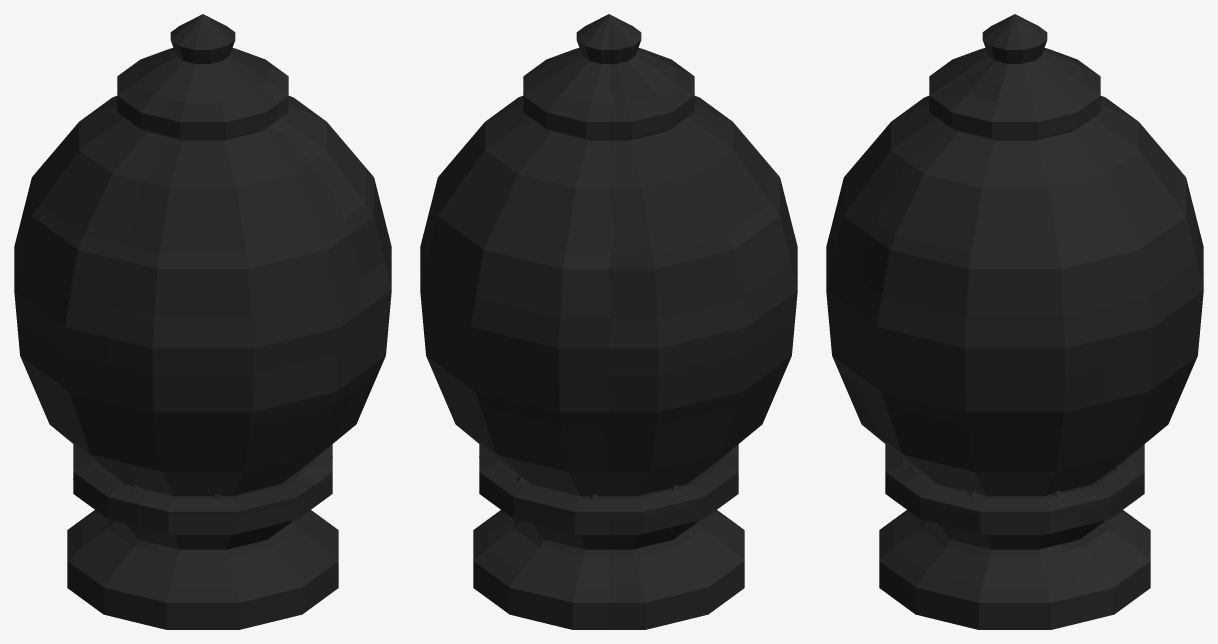
File: decolight_reprowashingtonglobe.obj
3 renders of one model, left to right at view 1: azimuth 30°, elevation 25°; view 2: azimuth 150°, elevation 25°; view 3: azimuth 270°, elevation 25°, orthographic.
Visible parts, largest first — view 1: decolight_reprowashingtonglobe; view 2: decolight_reprowashingtonglobe; view 3: decolight_reprowashingtonglobe.
Boxes of the visible parts, left/top/right/bottom form: decolight_reprowashingtonglobe: left=14, top=14, right=391, bottom=629; decolight_reprowashingtonglobe: left=420, top=14, right=797, bottom=629; decolight_reprowashingtonglobe: left=826, top=14, right=1203, bottom=629.
Size of the model in its own units: 0.7727 by 1.26 by 0.7727.
